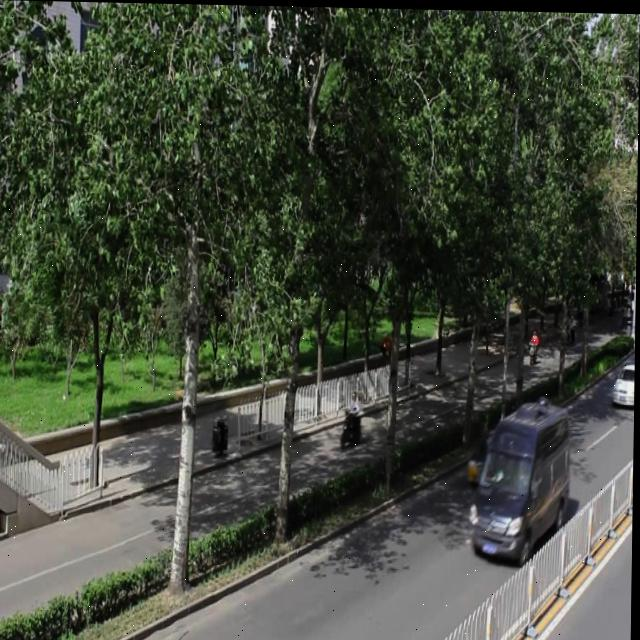car: (611, 359, 635, 405)
truck: (470, 396, 569, 560)
